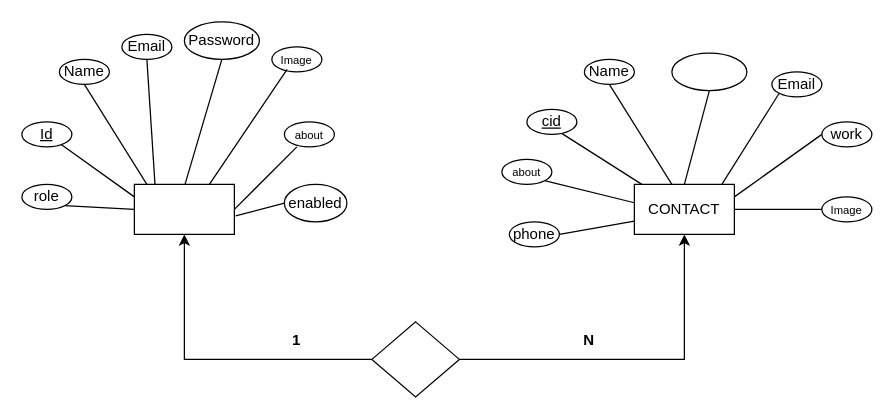
Some shapes in this 894 by 419 pixel diagram are drawn without their labels. The shapes that lost their labels are listed below. From the top down, each one's centre as x and y in pixels, then its label:
At [709,71]: "nickname".
At [183,208]: "USER".
At [415,359]: "has".
